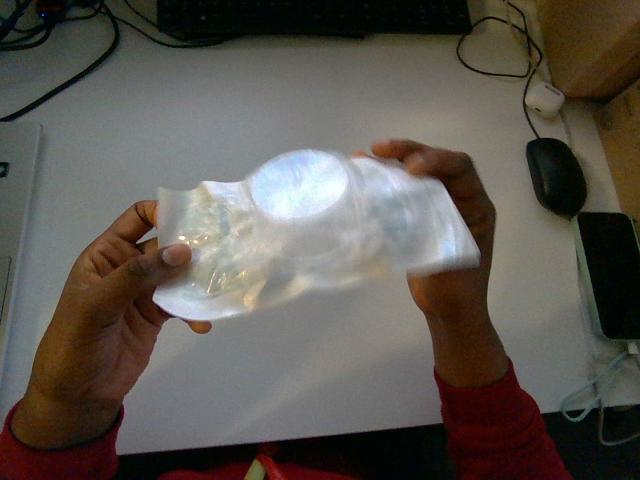gallipot: (154, 150, 478, 320)
